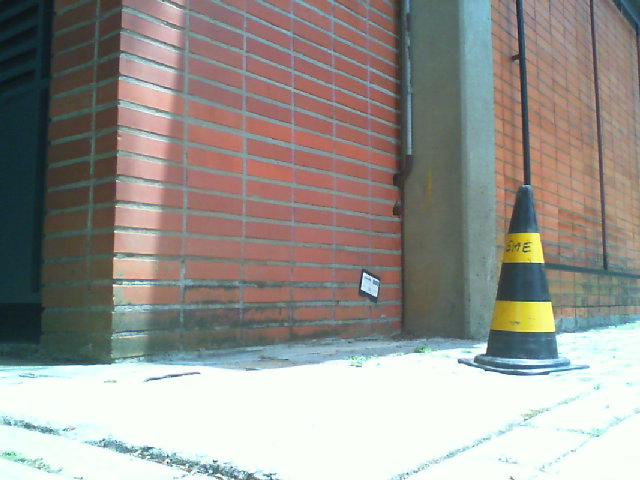0 cone: (457, 185, 590, 375)
